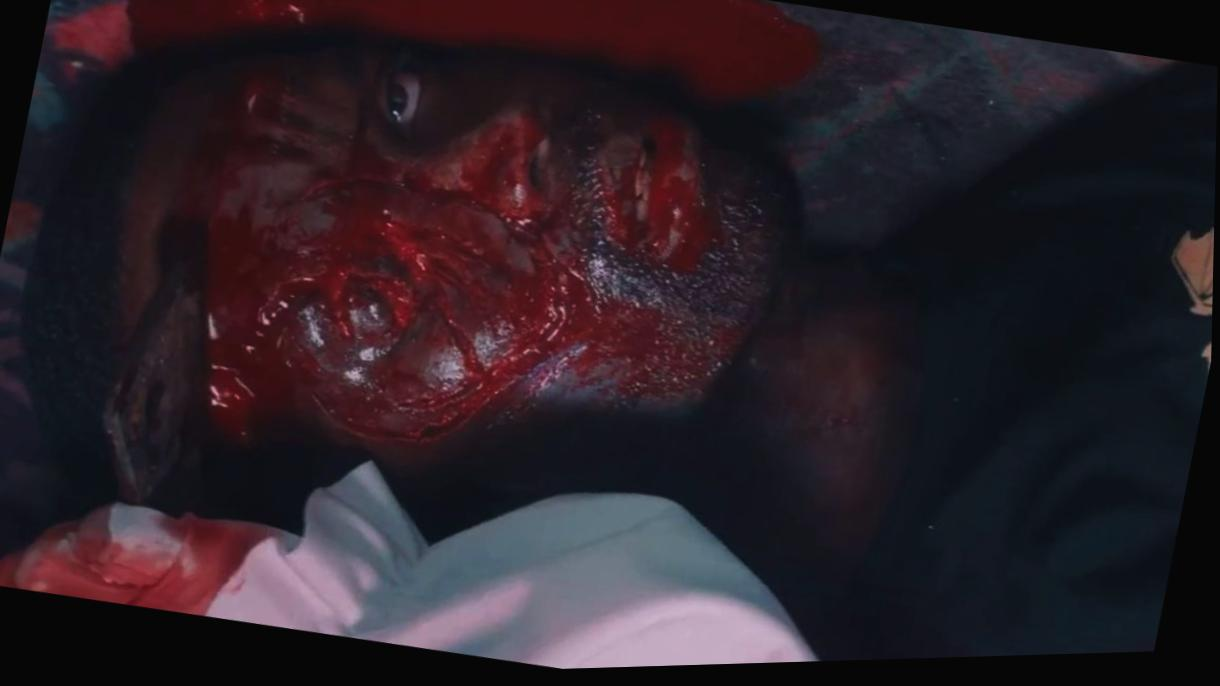Fire: (23, 47, 800, 541)
